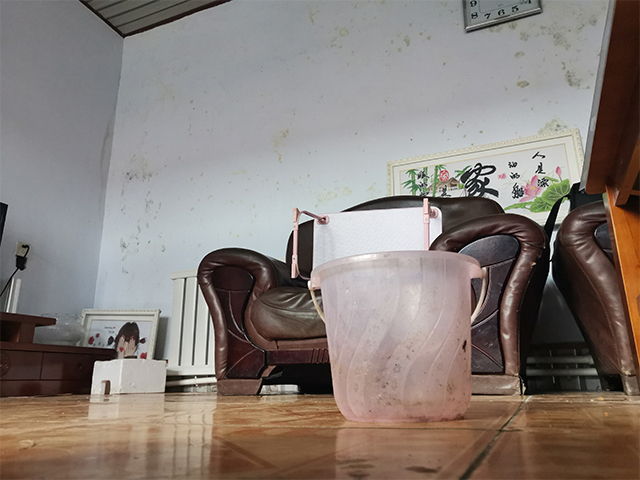cabinet: (1, 310, 118, 399)
sofa: (195, 194, 552, 398)
trashcan: (306, 249, 486, 426)
